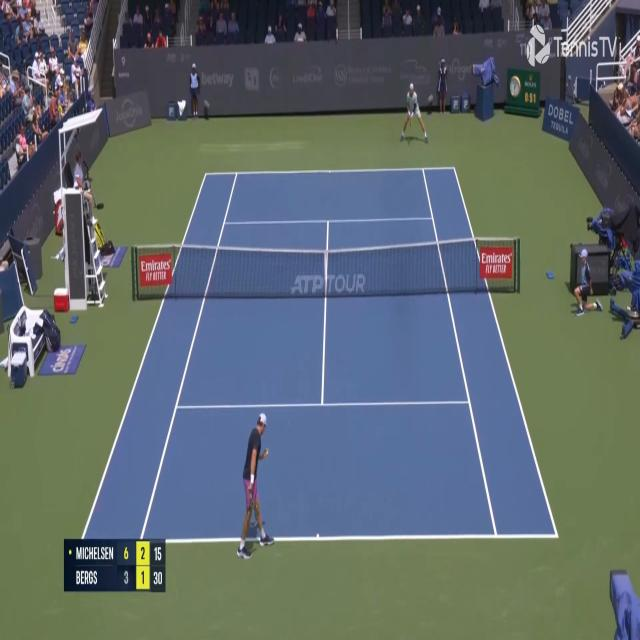tennis-player: (234, 409, 277, 564), (401, 80, 429, 145)
